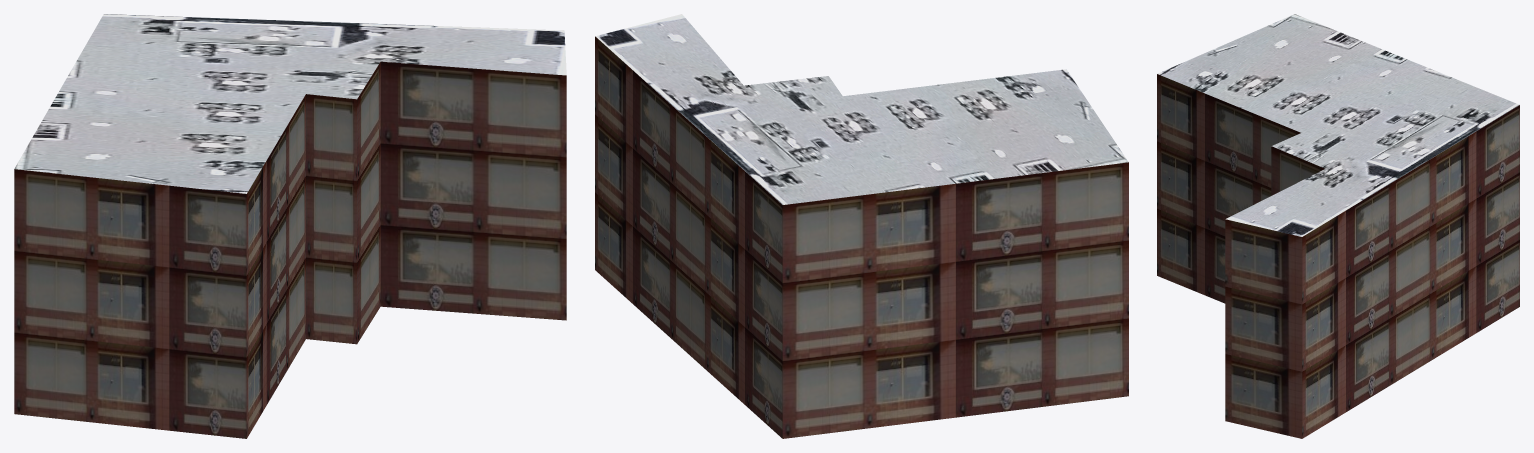
The model's file is ResTex__4907.fbx.
The picture shows the model from 3 angles, left to right: view 1: azimuth 30°, elevation 25°; view 2: azimuth 150°, elevation 25°; view 3: azimuth 270°, elevation 25°; orthographic projection. The views are drawn at different scales.
Visible parts, largest first — view 1: CityEngineMaterial_13_m, CityEngineMaterial_4_m; view 2: CityEngineMaterial_13_m, CityEngineMaterial_4_m; view 3: CityEngineMaterial_13_m, CityEngineMaterial_4_m.
Boxes of the visible parts, bbox=[...] form: CityEngineMaterial_13_m: bbox=[14, 61, 566, 438]; CityEngineMaterial_4_m: bbox=[14, 14, 566, 193]; CityEngineMaterial_13_m: bbox=[595, 36, 1128, 438]; CityEngineMaterial_4_m: bbox=[595, 14, 1128, 204]; CityEngineMaterial_13_m: bbox=[1157, 74, 1519, 438]; CityEngineMaterial_4_m: bbox=[1157, 14, 1519, 236].
Size of the model in its own units: 21.32 by 9 by 14.66.
Materials: 2 (2 with a texture image).
